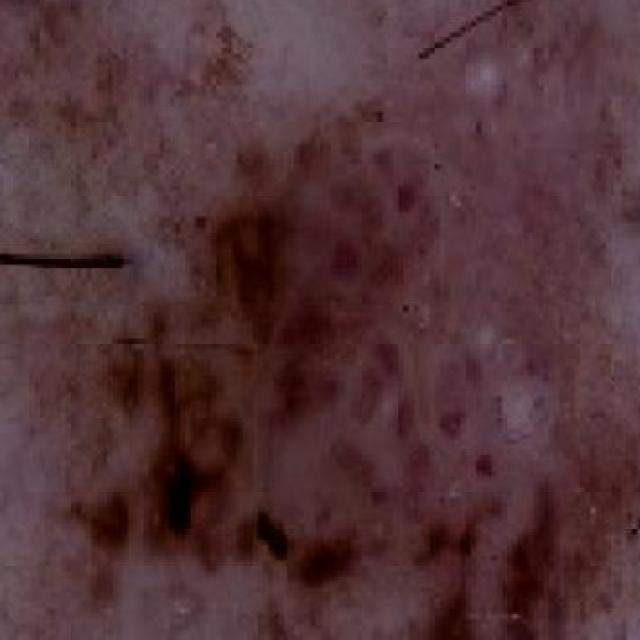BKL: (2, 81, 640, 640)
